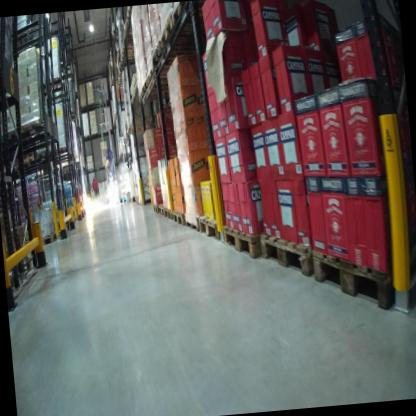pallet: (311, 237, 410, 319), (258, 224, 314, 282), (158, 12, 216, 53), (224, 220, 266, 264), (171, 0, 214, 32), (144, 58, 187, 87), (150, 36, 183, 70), (198, 212, 229, 243), (137, 83, 172, 106), (19, 118, 51, 142), (140, 76, 170, 93), (12, 26, 33, 49), (17, 151, 39, 170), (50, 72, 66, 97), (185, 210, 200, 234), (173, 205, 188, 229), (54, 142, 74, 156), (36, 146, 54, 161), (123, 28, 137, 46), (119, 43, 138, 56), (120, 52, 139, 65), (124, 6, 135, 26), (157, 201, 167, 218), (165, 208, 174, 222), (133, 73, 140, 91), (152, 202, 159, 215)
